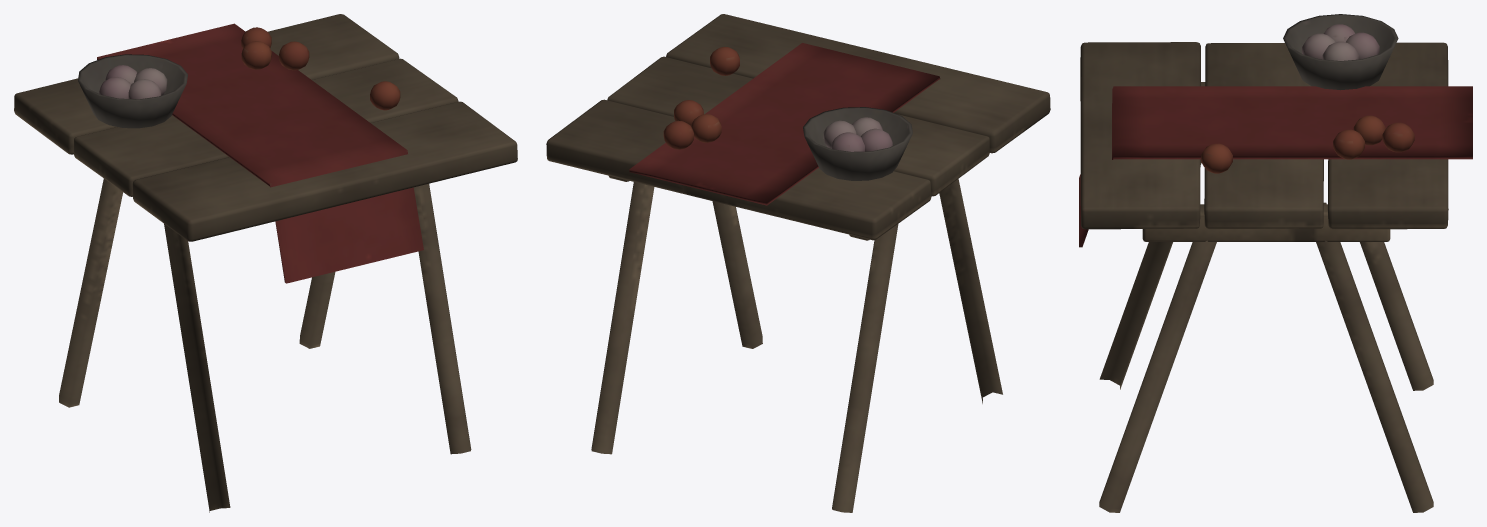
Rendered from stall_counter.obj.
The picture shows the model from 3 angles, left to right: view 1: azimuth 30°, elevation 25°; view 2: azimuth 150°, elevation 25°; view 3: azimuth 270°, elevation 25°; orthographic projection. The views are drawn at different scales.
Visible parts, largest first — view 1: part0, part1, part2, part4, part3; view 2: part0, part1, part2, part4, part3; view 3: part0, part1, part2, part4, part3.
Part boxes in pixels (x1=…): part0: x1=14, y1=14, x2=517, y2=512; part1: x1=97, y1=23, x2=423, y2=283; part2: x1=78, y1=54, x2=187, y2=128; part4: x1=241, y1=27, x2=400, y2=110; part3: x1=99, y1=65, x2=167, y2=99; part0: x1=546, y1=14, x2=1050, y2=512; part1: x1=629, y1=43, x2=940, y2=205; part2: x1=803, y1=107, x2=912, y2=180; part4: x1=663, y1=46, x2=739, y2=149; part3: x1=823, y1=117, x2=892, y2=151; part0: x1=1080, y1=42, x2=1448, y2=512; part1: x1=1079, y1=86, x2=1472, y2=247; part2: x1=1283, y1=14, x2=1398, y2=90; part4: x1=1201, y1=115, x2=1414, y2=173; part3: x1=1302, y1=24, x2=1379, y2=60.
Bounding box in the file's own units: 0.9632 × 0.978 × 0.954.
